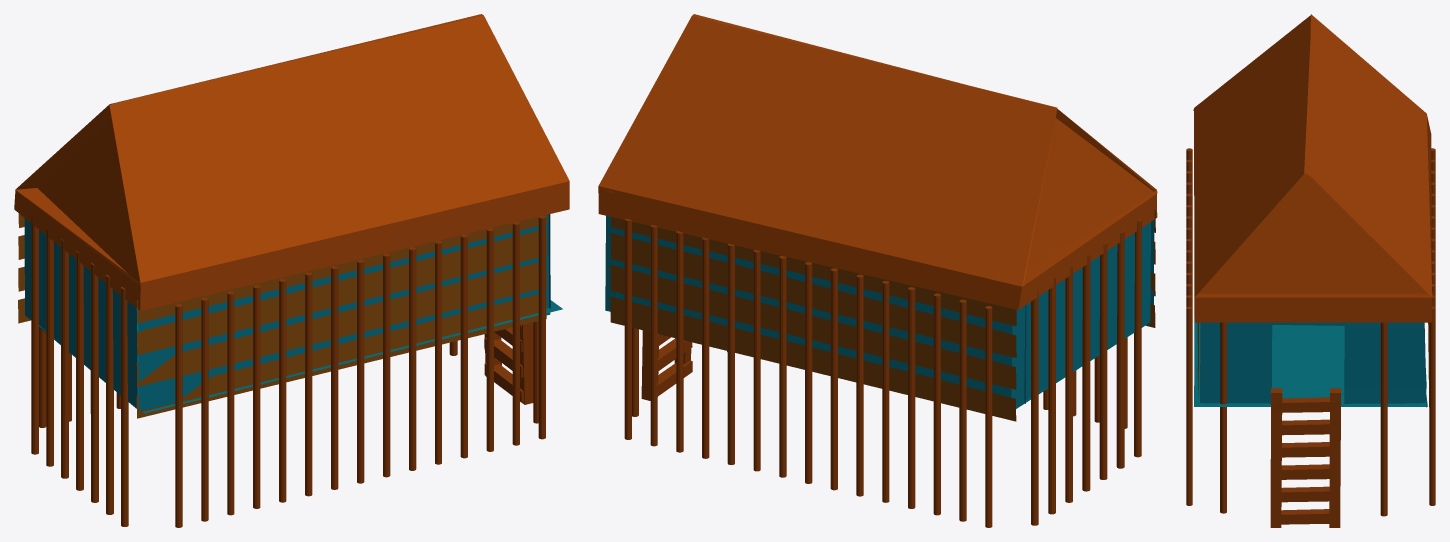
The model's file is rumah2.fbx.
3 renders of one model, left to right at view 1: azimuth 30°, elevation 25°; view 2: azimuth 150°, elevation 25°; view 3: azimuth 270°, elevation 25°, orthographic. The views are drawn at different scales.
Visible parts, largest first — view 1: Plane, Cylinder, Plane.003, Plane.002, Cylinder.001, Cube.001, Cube, Plane.001, Cylinder.002; view 2: Plane, Cylinder, Plane.004, Plane.002, Cylinder.001, Cube.001, Cube; view 3: Plane, Plane.002, Plane.001, Cube.001, Cylinder, Cube, Cylinder.002.
Part boxes in pixels (bbox=[...]): Plane: bbox=[14, 14, 569, 310]; Cylinder: bbox=[39, 215, 545, 527]; Plane.003: bbox=[136, 215, 546, 418]; Plane.002: bbox=[24, 214, 550, 410]; Cylinder.001: bbox=[31, 216, 128, 526]; Cube.001: bbox=[484, 325, 523, 402]; Cube: bbox=[484, 322, 533, 404]; Plane.001: bbox=[39, 300, 562, 413]; Cylinder.002: bbox=[449, 321, 538, 423]; Plane: bbox=[598, 14, 1157, 309]; Cylinder: bbox=[624, 218, 1127, 527]; Plane.004: bbox=[610, 217, 1016, 421]; Plane.002: bbox=[605, 215, 1154, 408]; Cylinder.001: bbox=[1031, 219, 1141, 525]; Cube.001: bbox=[657, 334, 692, 396]; Cube: bbox=[641, 330, 691, 400]; Plane: bbox=[1193, 14, 1432, 322]; Plane.002: bbox=[1200, 322, 1426, 407]; Plane.001: bbox=[1194, 317, 1427, 406]; Cube.001: bbox=[1273, 397, 1337, 524]; Cylinder: bbox=[1186, 148, 1435, 505]; Cube: bbox=[1270, 388, 1341, 527]; Cylinder.002: bbox=[1220, 322, 1387, 516].
Size of the model in its own units: 387 by 321 by 213.
